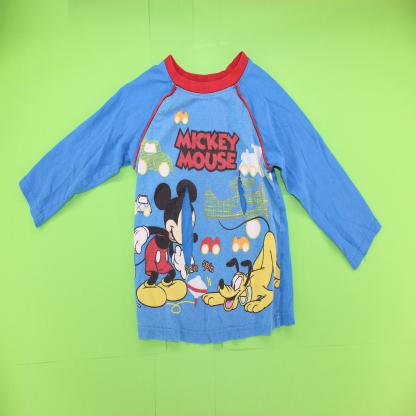hole: (180, 183, 195, 272), (236, 168, 248, 217)
